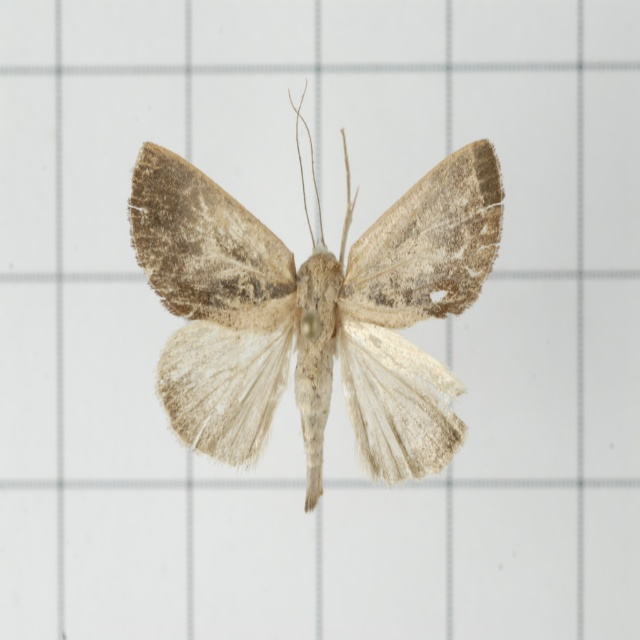Butterfly: (114, 107, 500, 511)
